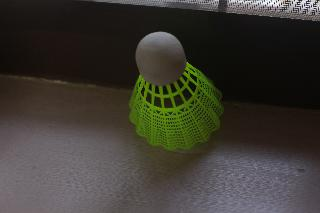shuttlecock: (129, 32, 223, 149)
